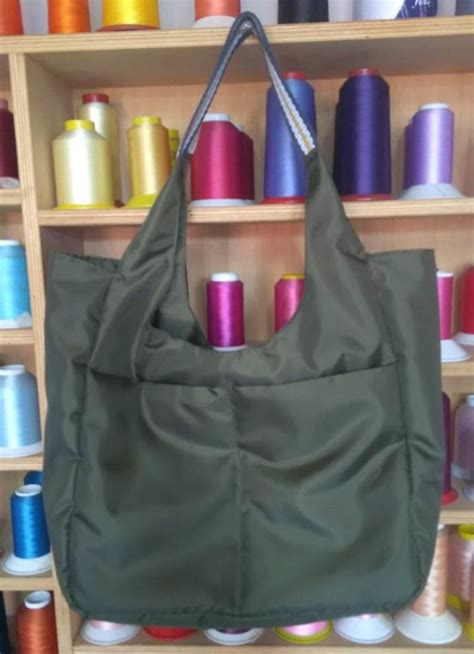nylon: (44, 12, 444, 625)
